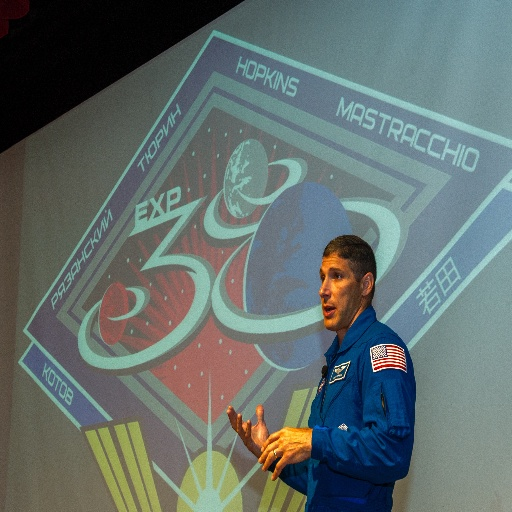hand: (257, 425, 311, 482), (229, 397, 273, 455)
